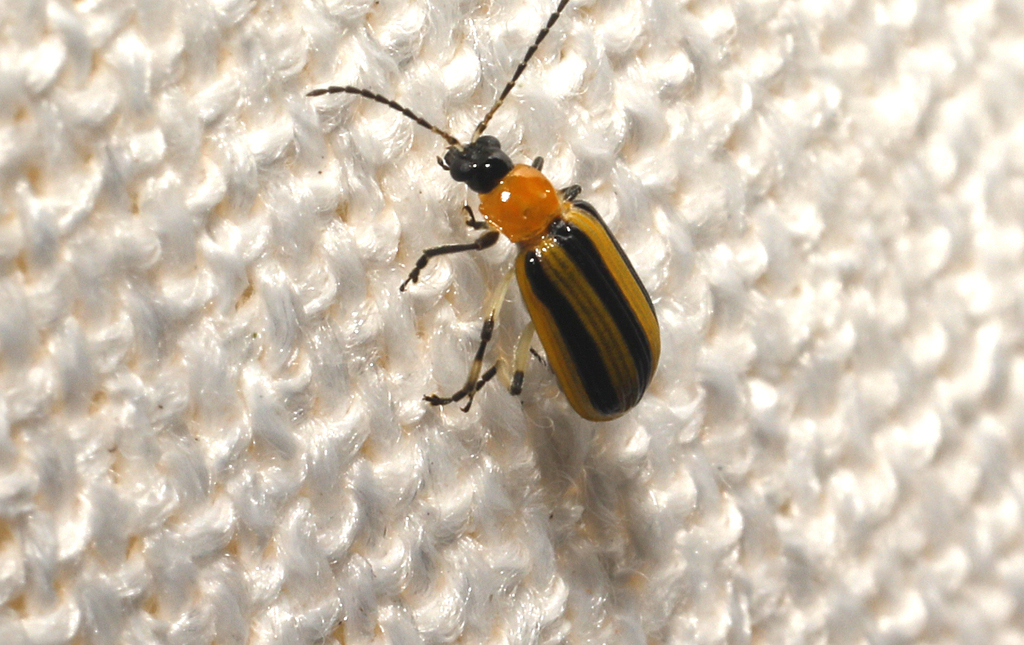potato_beetle: (223, 0, 780, 521)
